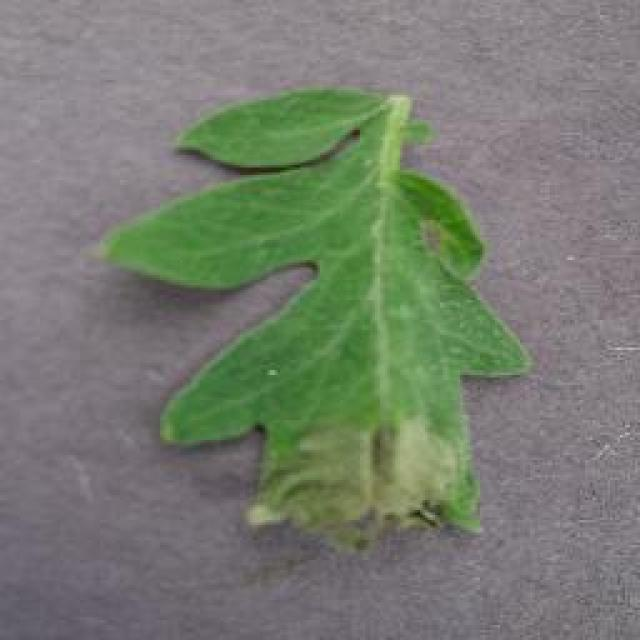Tomato___Late_blight: (95, 83, 535, 563)
